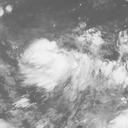cyclone: (19, 39, 76, 90)
